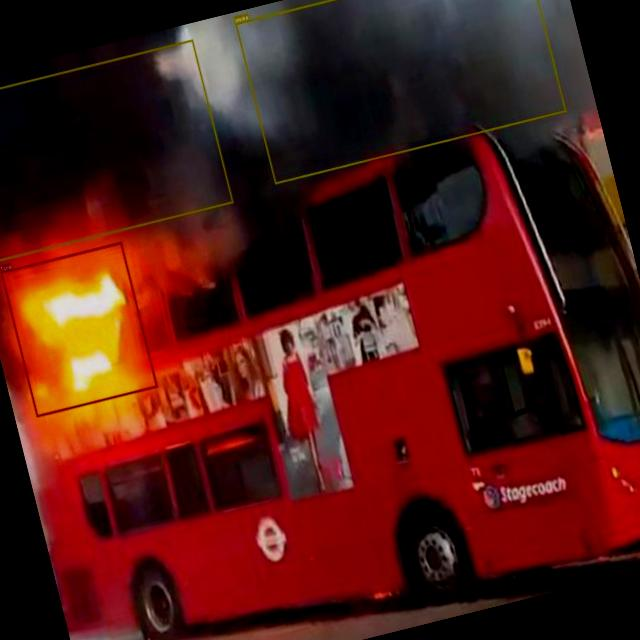fire: (0, 240, 157, 416)
smoke: (234, 0, 565, 183), (0, 39, 232, 262)
